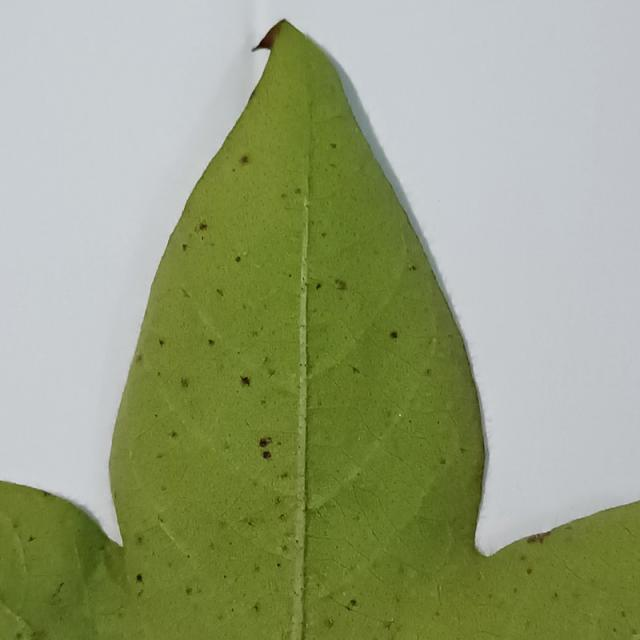Bacterial_Blight: (303, 270, 360, 313), (181, 214, 217, 258), (252, 23, 281, 51), (257, 431, 275, 454), (237, 369, 256, 390), (530, 531, 552, 544), (305, 277, 323, 292), (181, 287, 191, 299), (336, 280, 347, 290), (346, 600, 356, 611), (180, 377, 189, 388), (169, 430, 178, 439), (241, 155, 249, 164), (136, 573, 143, 583), (135, 353, 142, 363), (216, 289, 224, 297), (410, 265, 417, 271), (159, 339, 164, 346)
Cotton: (0, 21, 639, 639)
